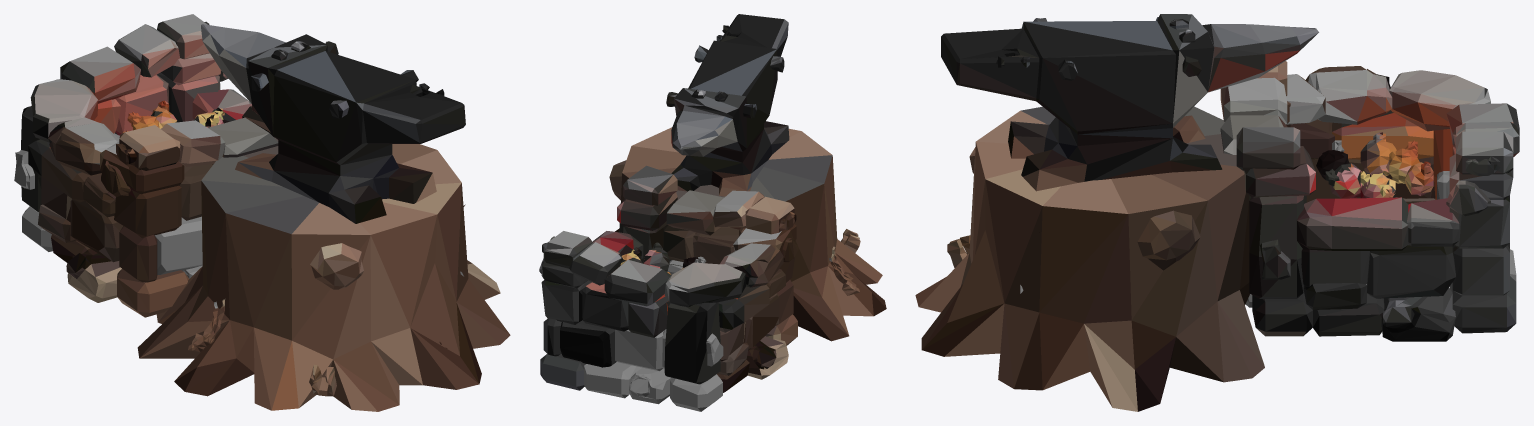
The model's file is Anvil_Forge.glb.
The picture shows the model from 3 angles, left to right: view 1: azimuth 30°, elevation 25°; view 2: azimuth 150°, elevation 25°; view 3: azimuth 270°, elevation 25°; orthographic projection. The views are drawn at different scales.
Visible parts, largest first — view 1: world; view 2: world; view 3: world.
Boxes of the visible parts, x1,y1,x2,y2 form: world: (14, 14, 510, 411); world: (539, 14, 886, 411); world: (915, 14, 1519, 411).
Bounding box in the file's own units: 0.2656 × 0.1973 × 0.3711.
